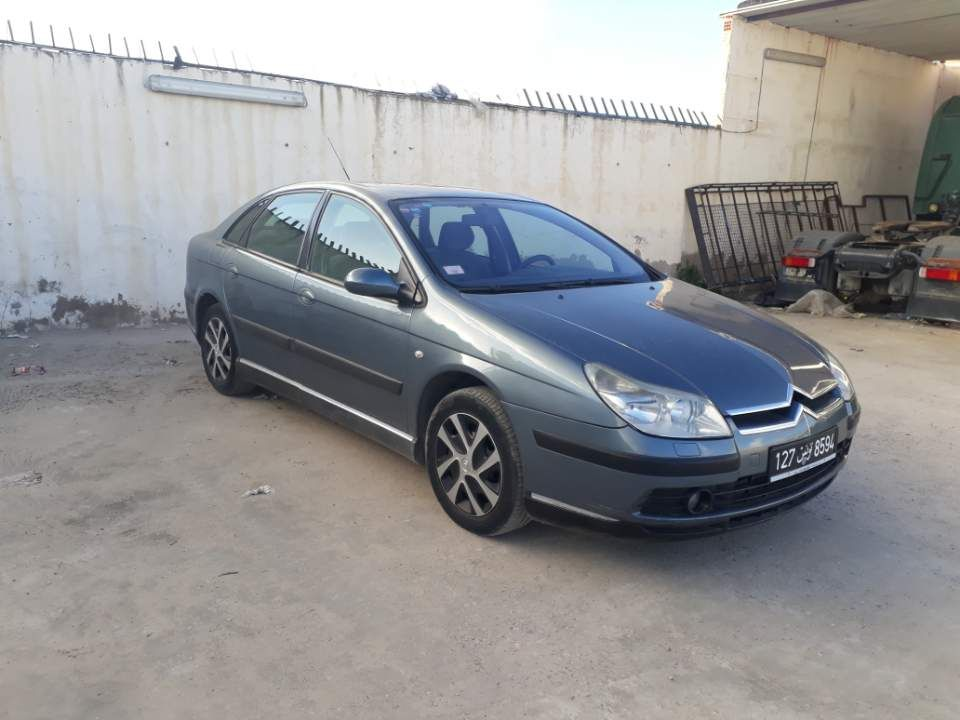LP: (766, 424, 837, 484)
